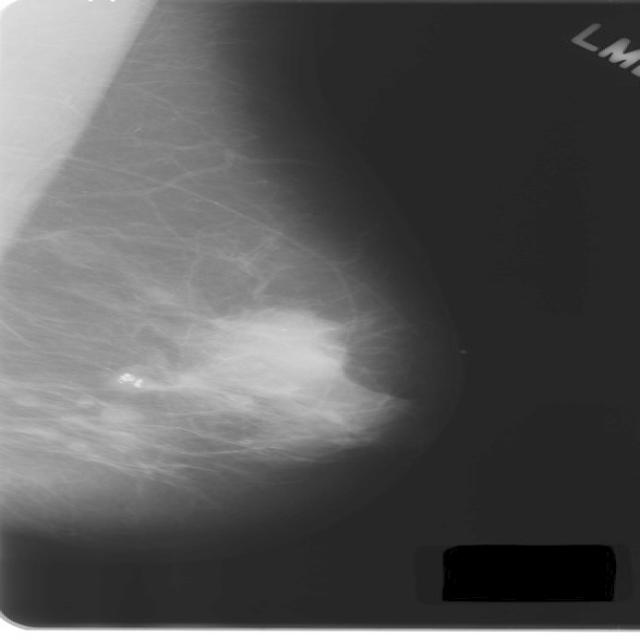tumour: (194, 308, 345, 390)
